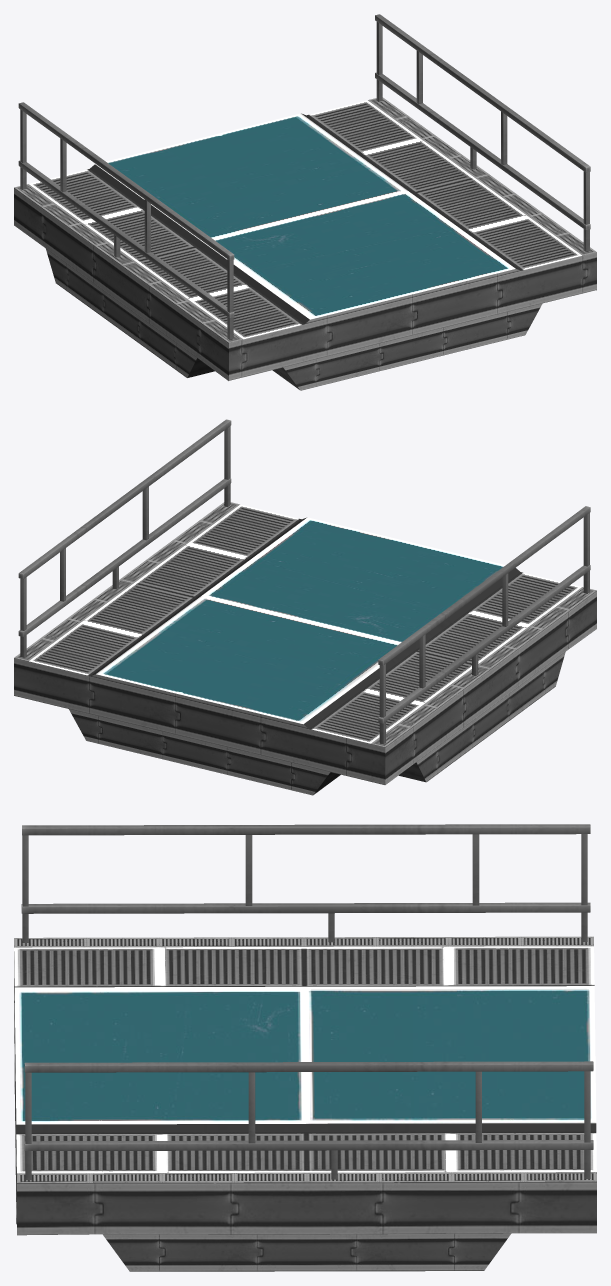
Rendered from ARC1110044.fbx.
3 views of the same model, one above another, from view 1: azimuth 30°, elevation 25°; view 2: azimuth 150°, elevation 25°; view 3: azimuth 270°, elevation 25° (orthographic). The views are drawn at different scales.
Visible parts, largest first — view 1: smARC1110044; view 2: smARC1110044; view 3: smARC1110044.
Boxes of the visible parts, box(x1,y1,x2,y2) form: smARC1110044: box(14, 14, 596, 390); smARC1110044: box(14, 419, 596, 795); smARC1110044: box(14, 824, 596, 1271).
Bounding box in the file's own units: 377 × 145 × 377.
1 material, 1 textured.
